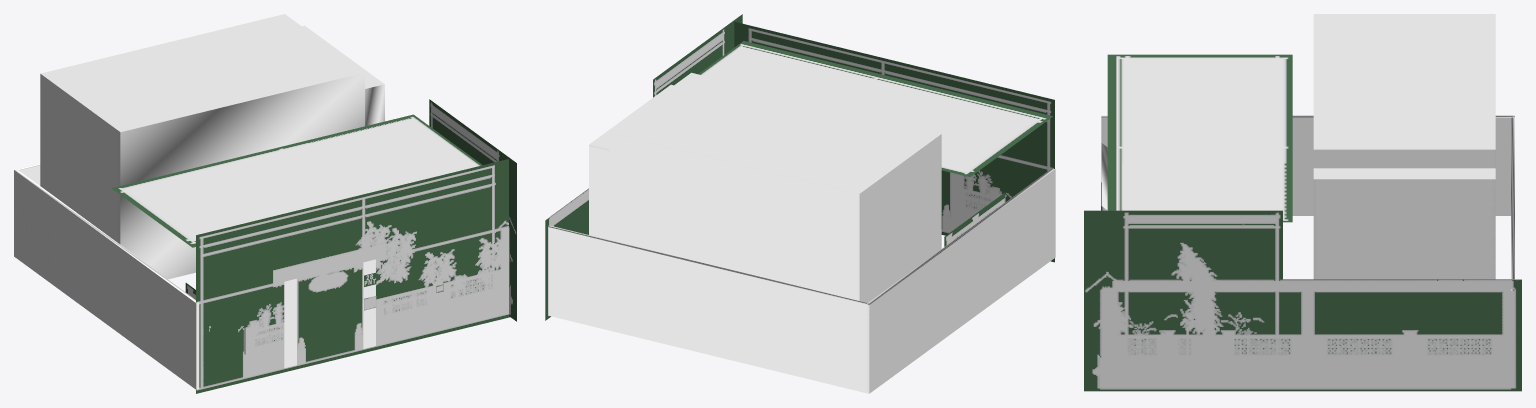
3 views of the same model, side by side, from view 1: azimuth 30°, elevation 25°; view 2: azimuth 150°, elevation 25°; view 3: azimuth 270°, elevation 25° (orthographic). The views are drawn at different scales.
Parts seen in each view (by area): view 1: 5ccab926026c8b690445a1ac.001; view 2: 5ccab926026c8b690445a1ac.001; view 3: 5ccab926026c8b690445a1ac.001.
Boxes of the visible parts, x1,y1,x2,y2 form: 5ccab926026c8b690445a1ac.001: (14, 14, 516, 393); 5ccab926026c8b690445a1ac.001: (545, 14, 1055, 393); 5ccab926026c8b690445a1ac.001: (1084, 14, 1521, 391).
Bounding box in the file's own units: 20.05 × 11.48 × 21.17.
Materials: 1 (1 with a texture image).
